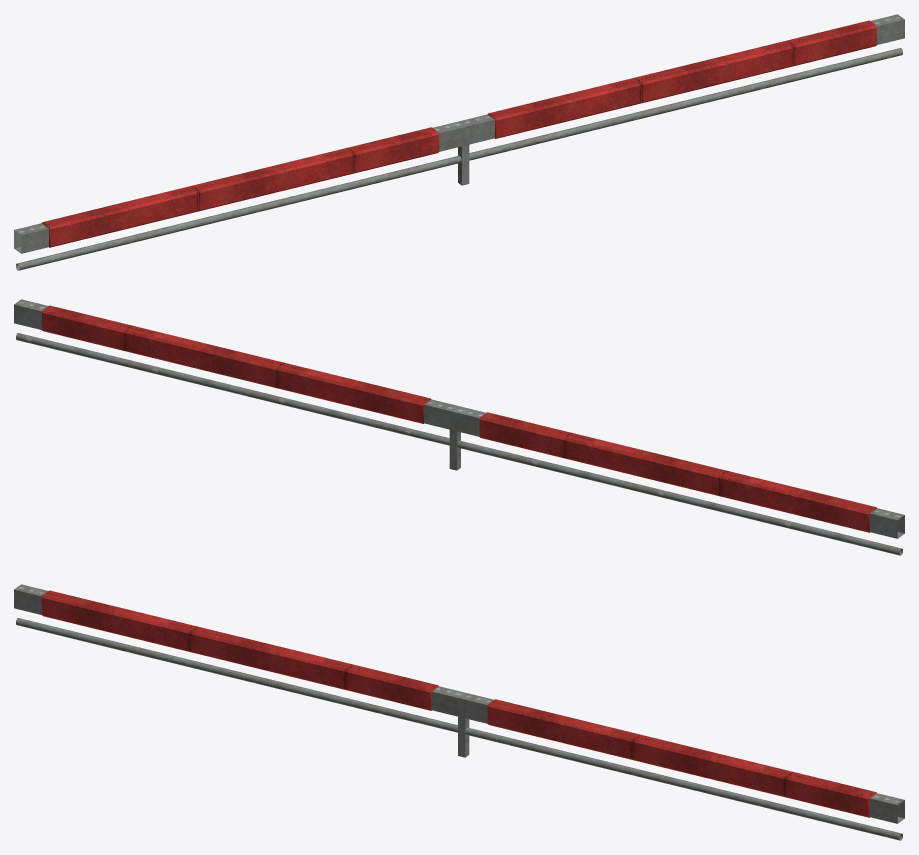
The model's file is Ob_RailingRed2_RC.fbx.
The picture shows the model from 3 angles, top to bottom: view 1: azimuth 30°, elevation 25°; view 2: azimuth 150°, elevation 25°; view 3: azimuth 330°, elevation 25°; orthographic projection.
Visible parts, largest first — view 1: Ob_RailingRed2_RC; view 2: Ob_RailingRed2_RC; view 3: Ob_RailingRed2_RC.
Boxes of the visible parts, x1,y1,x2,y2 form: Ob_RailingRed2_RC: [14, 14, 904, 270]; Ob_RailingRed2_RC: [14, 299, 904, 555]; Ob_RailingRed2_RC: [14, 584, 904, 840].
Size of the model in its own units: 1973 by 129 by 33.46.
